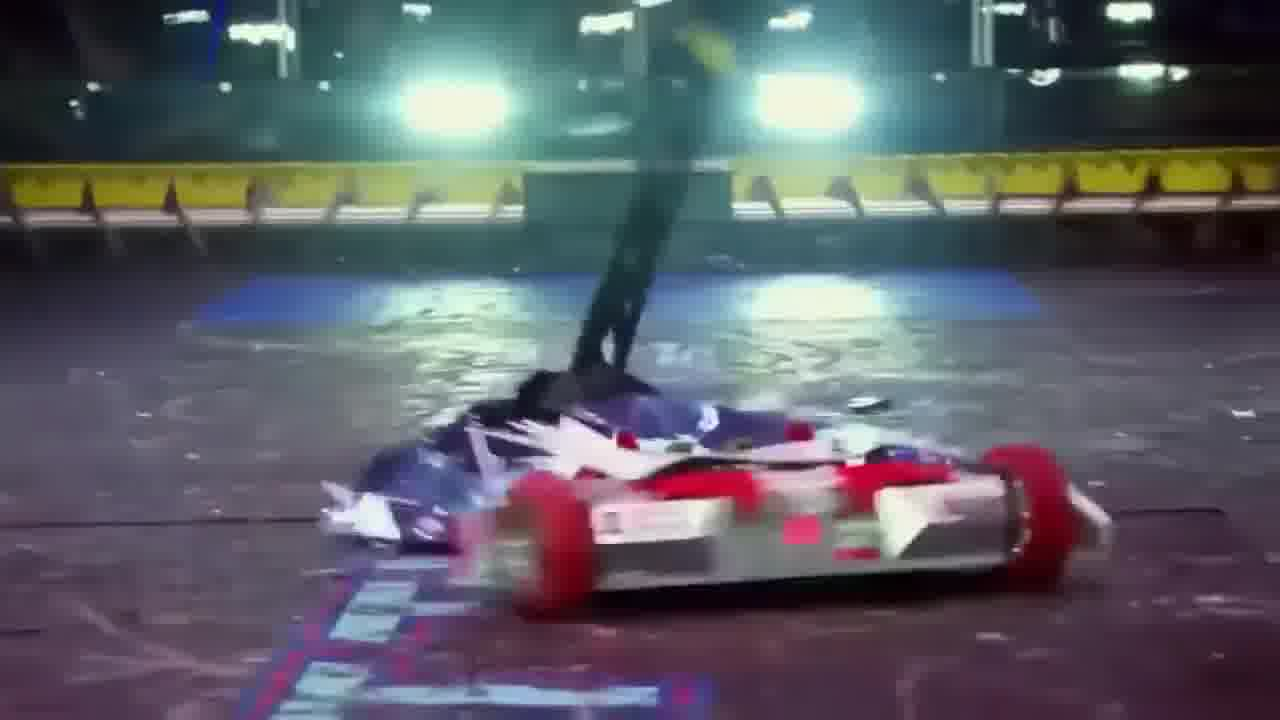combatbot: (304, 53, 949, 555), (457, 423, 1075, 617)
